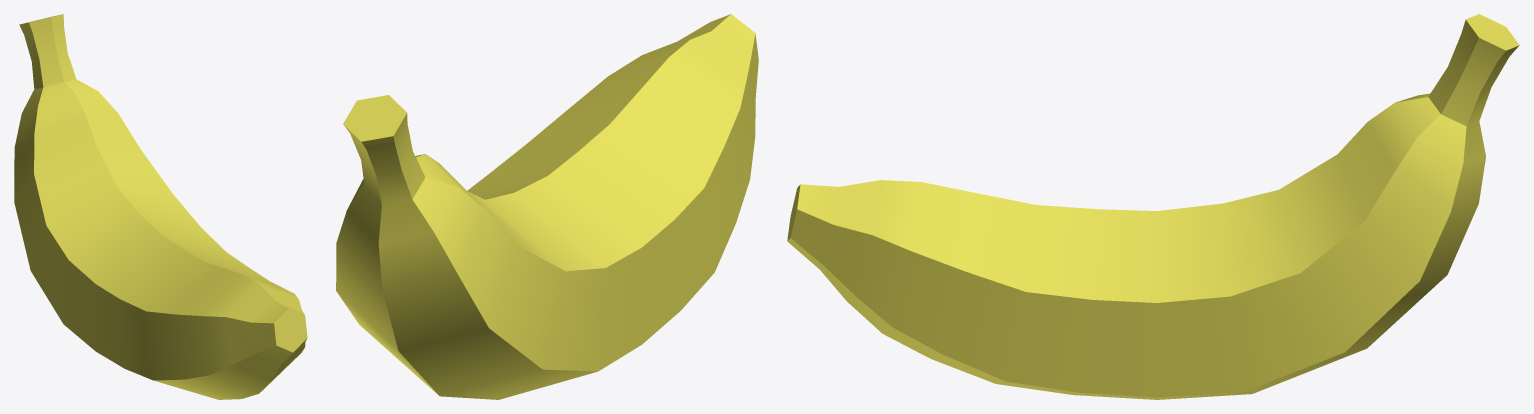
File: banana.fbx
3 renders of one model, left to right at view 1: azimuth 30°, elevation 25°; view 2: azimuth 150°, elevation 25°; view 3: azimuth 270°, elevation 25°, orthographic. The views are drawn at different scales.
Parts seen in each view (by area): view 1: banana_geo; view 2: banana_geo; view 3: banana_geo.
Part boxes in pixels (<box>): banana_geo: <box>14,14,307,399</box>; banana_geo: <box>336,14,758,399</box>; banana_geo: <box>787,14,1519,399</box>.
Bounding box in the file's own units: 74.86 × 146 × 255.
